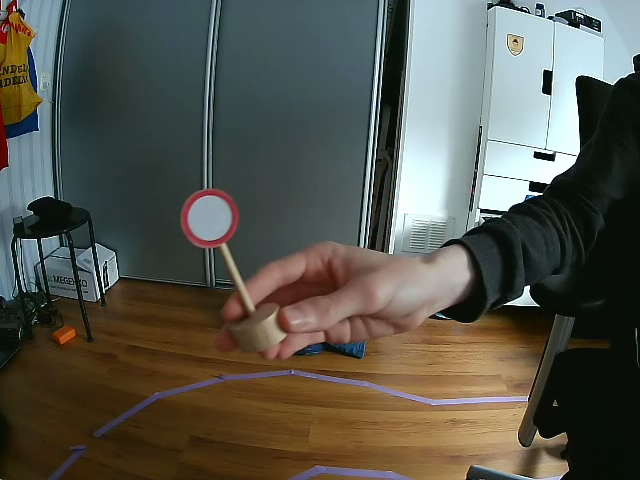wegdicht: (182, 189, 240, 250)
